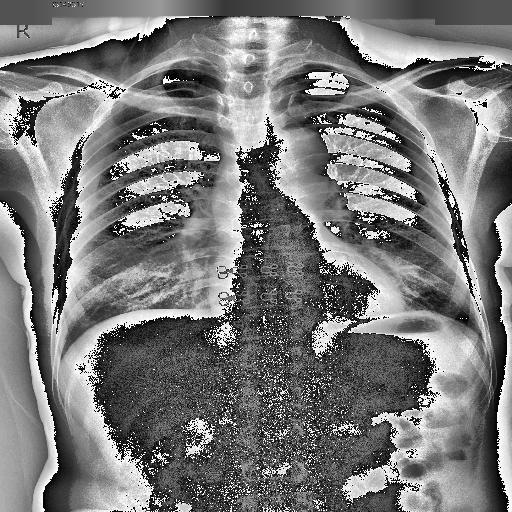0- Aortic enlargement: (269, 128, 331, 190), (272, 127, 330, 175), (285, 126, 332, 177)
8- Nodule-Mass: (363, 121, 371, 125), (392, 147, 396, 150)
